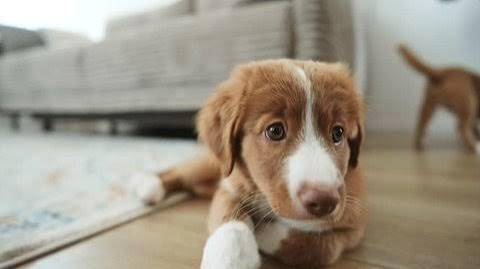adult_dog: (396, 43, 480, 159)
puppy-dog: (128, 58, 369, 269)
